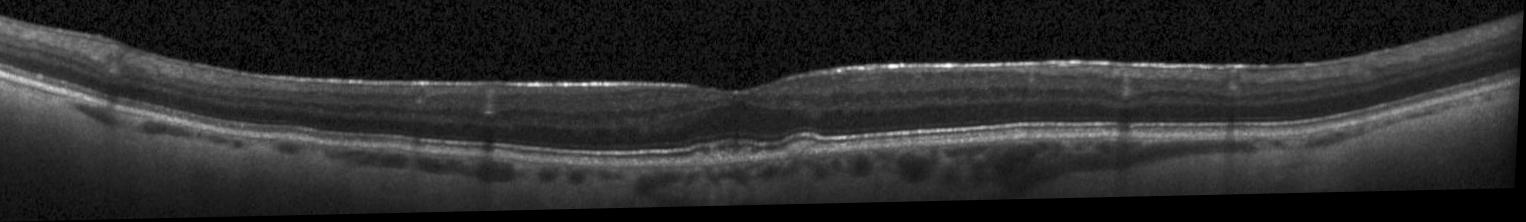retinal_drusen: (789, 147, 822, 161), (684, 159, 711, 170), (740, 151, 753, 163), (721, 156, 735, 165), (710, 158, 723, 167), (759, 155, 774, 162)
